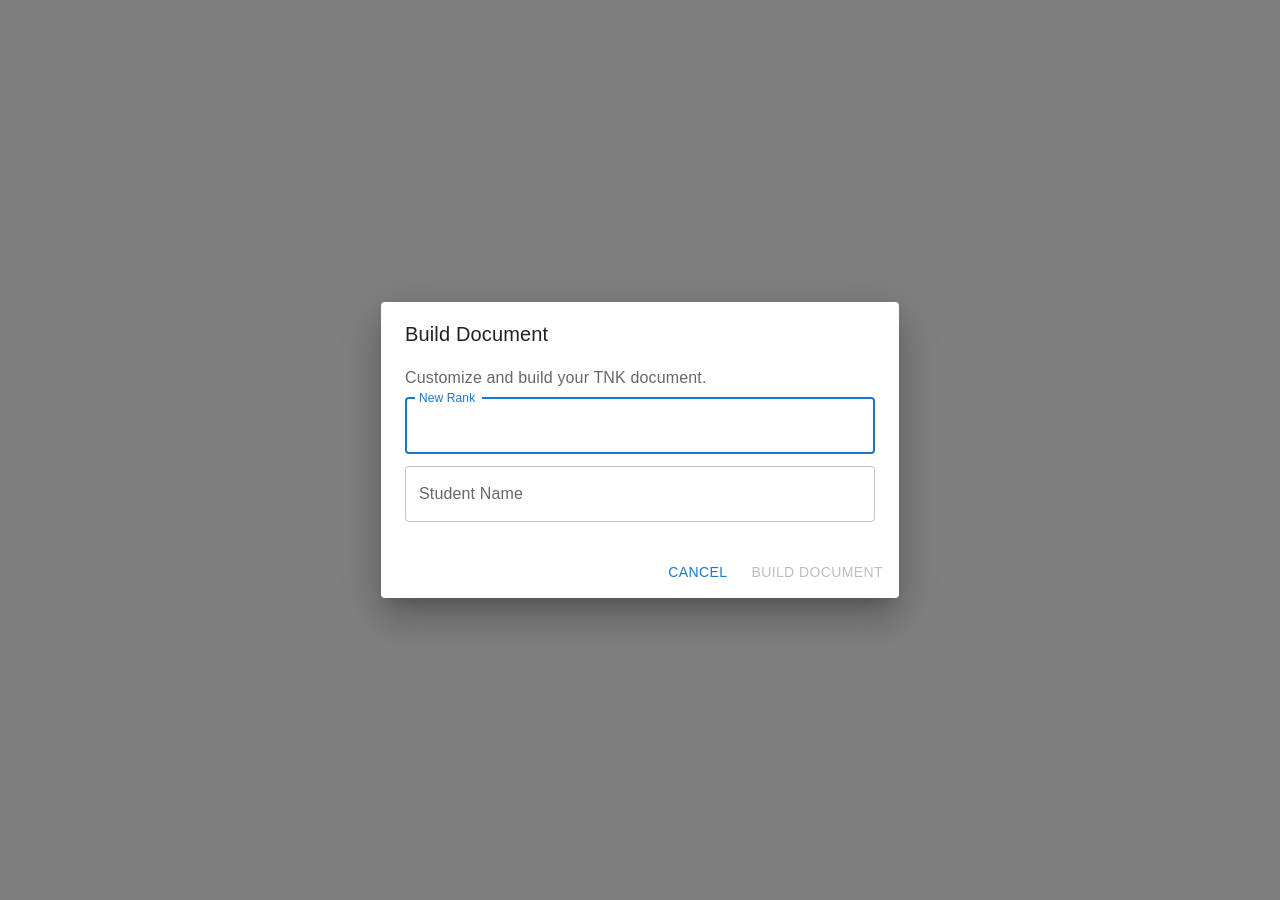
Test: BuildDocumentDialogue › should enable build button when both fields are filled
In the field labelled "Student Name": (640, 494) [405, 466, 875, 522], type "John Doe"
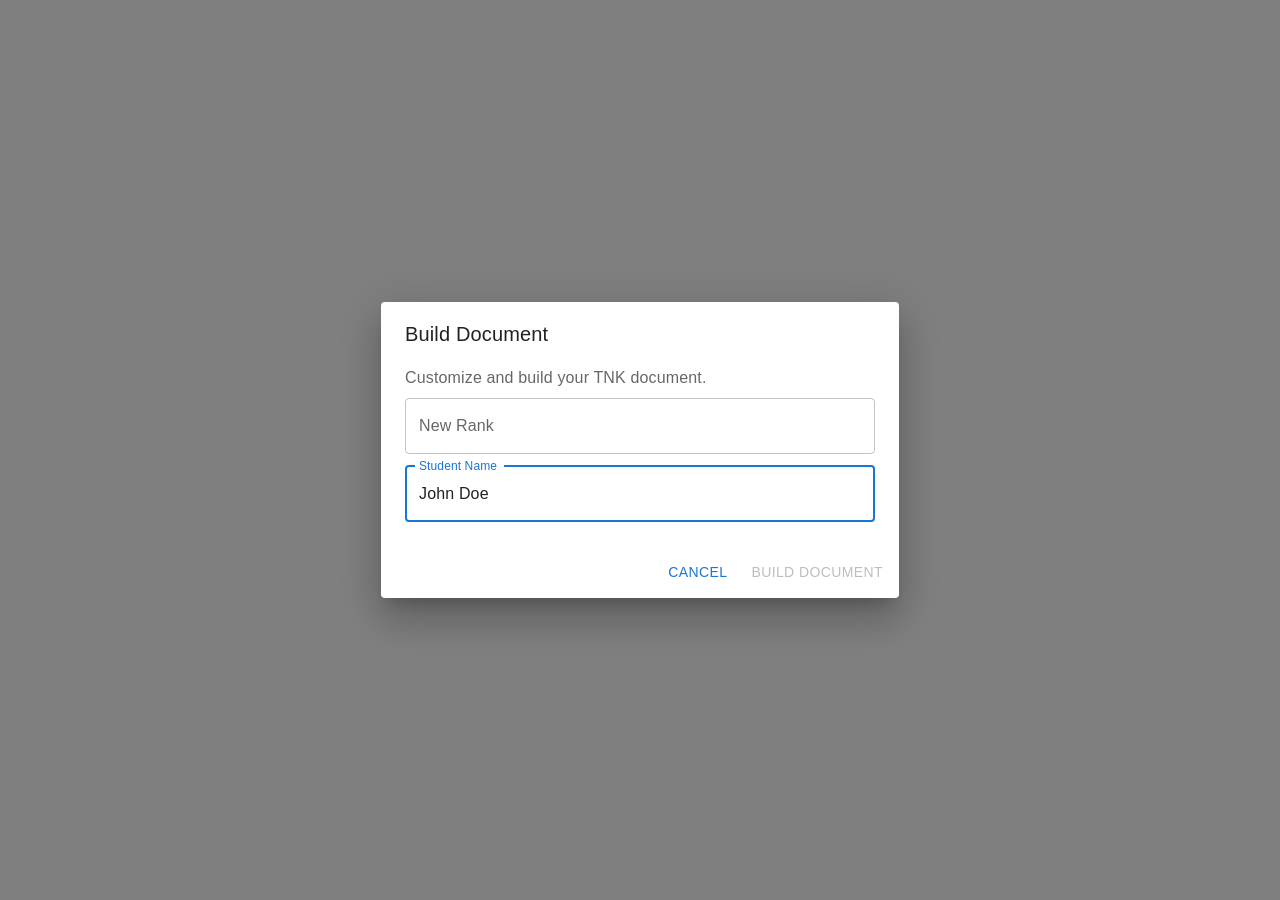
In the field labelled "New Rank": (640, 426) [405, 398, 875, 454], type "Black Belt"
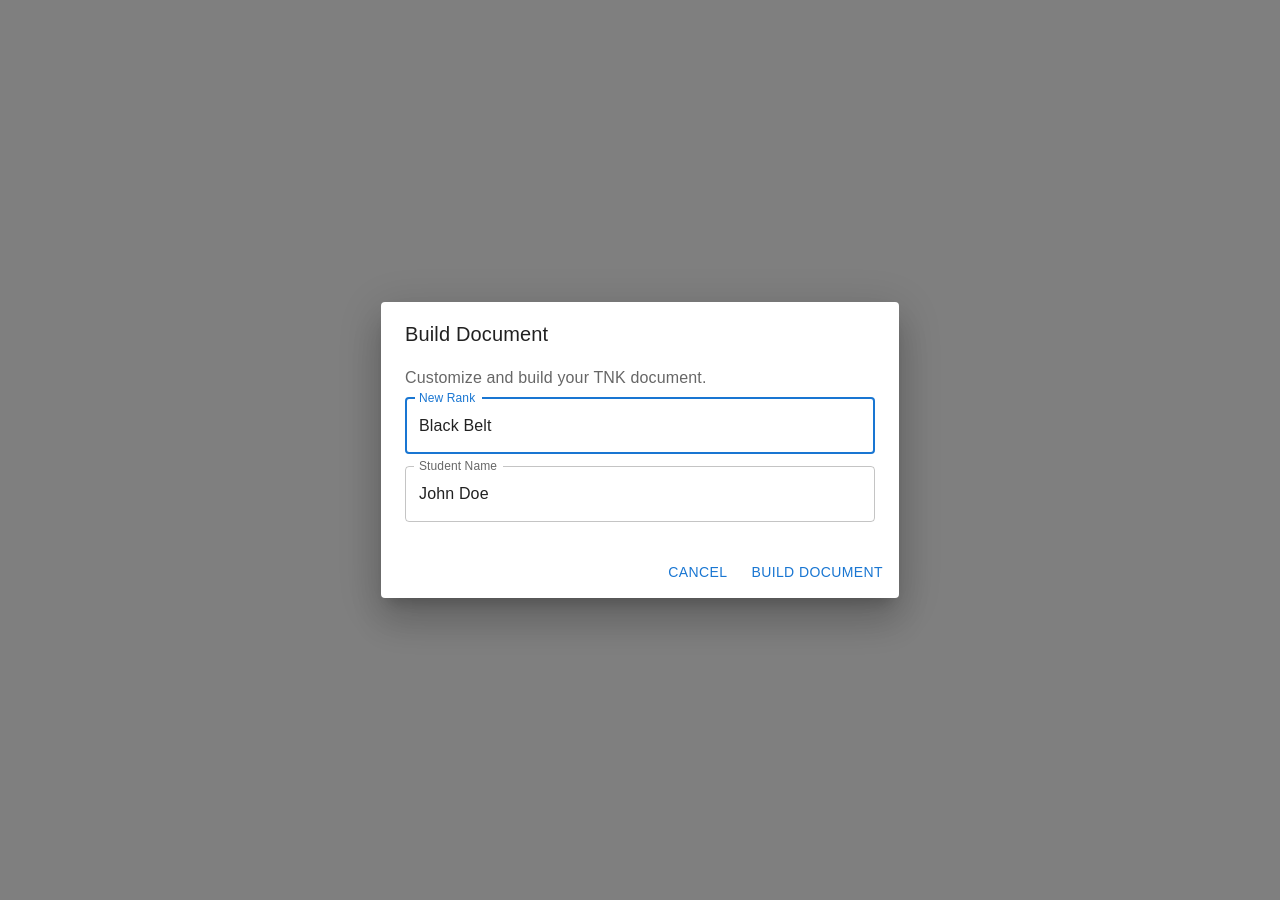
Result: the button "Build Document" is enabled at [743, 554, 891, 590]
